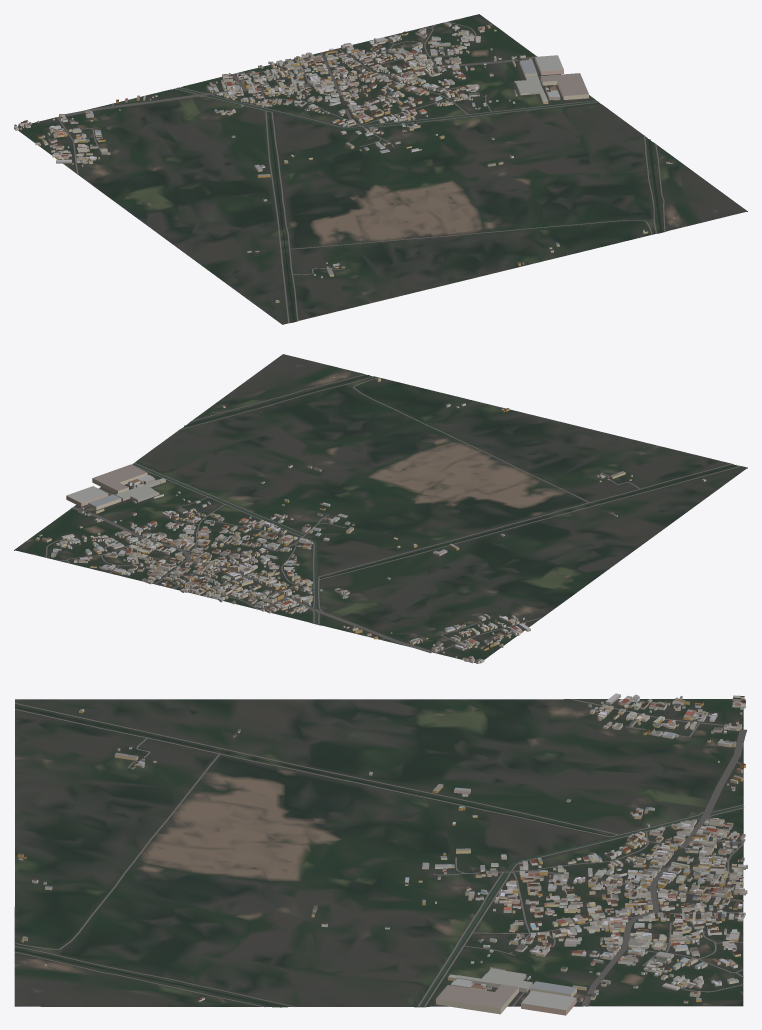
3 views of the same model, one above another, from view 1: azimuth 30°, elevation 25°; view 2: azimuth 150°, elevation 25°; view 3: azimuth 270°, elevation 25° (orthographic). The views are drawn at different scales.
Parts seen in each view (by area): view 1: ground, buildings, roads, water; view 2: ground, buildings, roads, water; view 3: ground, buildings, roads, water.
Boxes of the visible parts, x1,y1,x2,y2 form: ground: (17, 14, 747, 324); buildings: (14, 22, 674, 302); roads: (57, 21, 665, 323); water: (176, 87, 662, 321); ground: (14, 354, 747, 663); buildings: (35, 376, 706, 663); roads: (45, 374, 741, 653); water: (133, 375, 735, 624); ground: (14, 699, 743, 1007); buildings: (17, 693, 747, 1015); roads: (14, 699, 746, 1007); water: (14, 707, 743, 1007).
Size of the model in its own units: 1454 by 17.41 by 1411.
